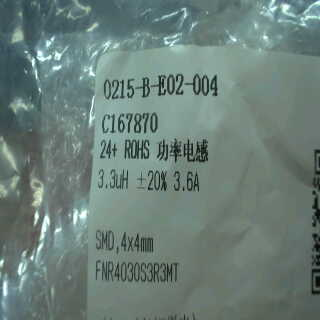3.3uH: (96, 164, 129, 197)
